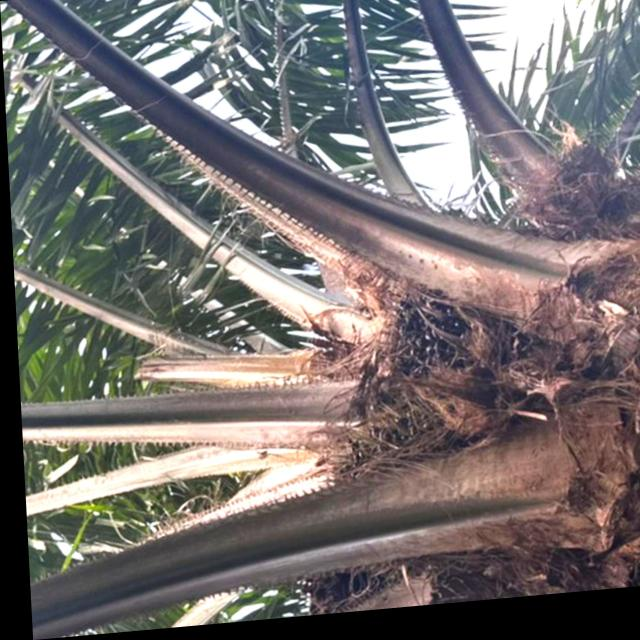unripe: (380, 281, 477, 400)
